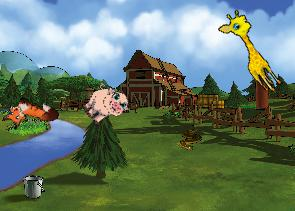fox: (0, 91, 60, 141)
giraffe: (214, 6, 292, 96)
pig: (77, 77, 133, 133)
